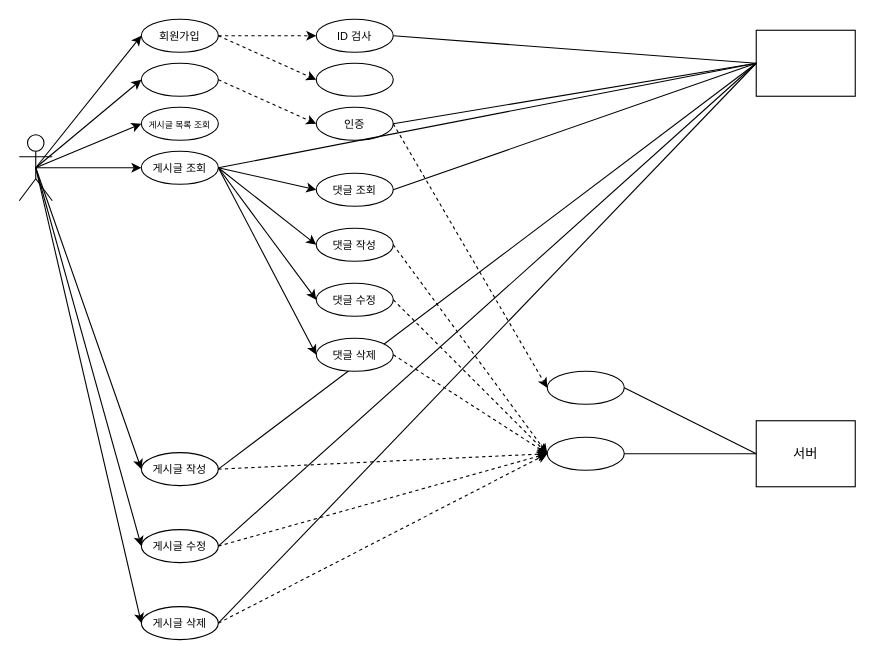
Image size: 875x668. Some labels were removed from this diagram. Each missing label, with the box of its shape:
DB: (755, 29, 855, 96)
PW 검사: (315, 62, 393, 96)
로그인: (140, 62, 218, 96)
유저: (18, 134, 52, 201)
토큰 검사: (546, 436, 624, 470)
토큰 발급: (546, 370, 624, 404)
